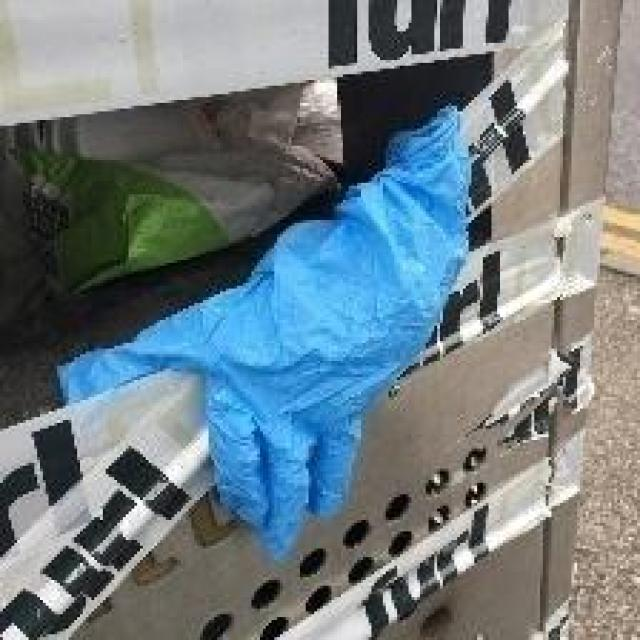Glove: (98, 136, 486, 570)
